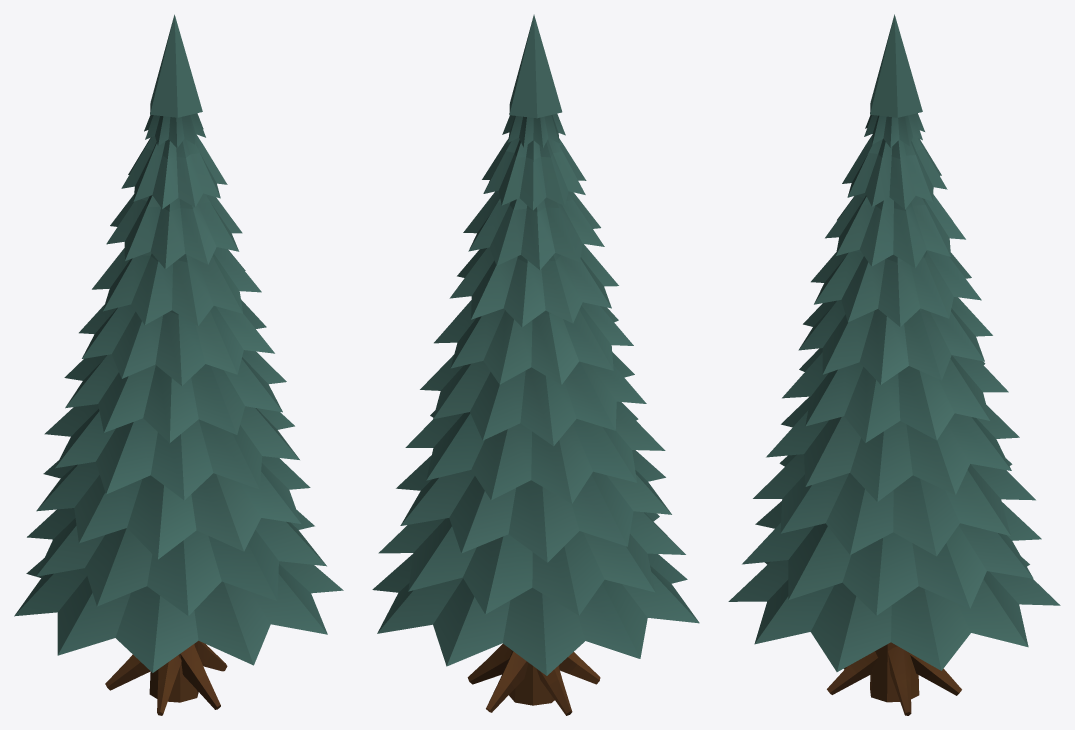
File: tree_big_fir.glb
The picture shows the model from 3 angles, left to right: view 1: azimuth 30°, elevation 25°; view 2: azimuth 150°, elevation 25°; view 3: azimuth 270°, elevation 25°; orthographic projection.
Bounding box in the file's own units: 6.35 × 14.6 × 6.49.
